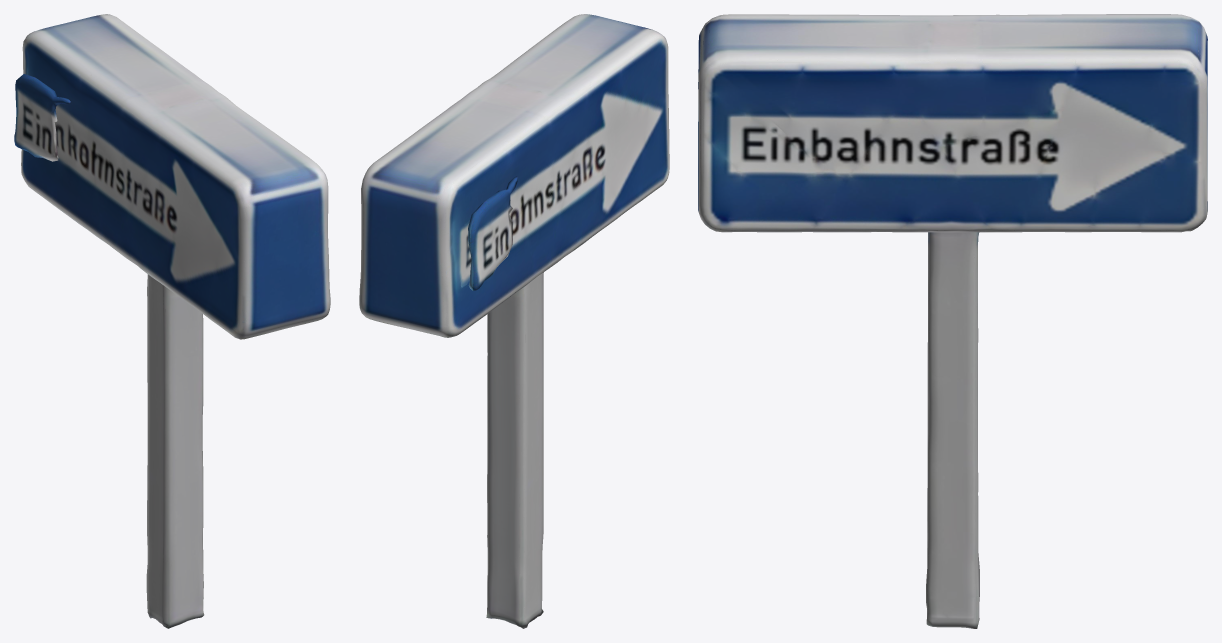
Rendered from tripo_convert_955fb6c0-0e9d-4a86-a6e5-b579ac45fa3c.fbx.
The picture shows the model from 3 angles, left to right: view 1: azimuth 30°, elevation 25°; view 2: azimuth 150°, elevation 25°; view 3: azimuth 270°, elevation 25°; orthographic projection. The views are drawn at different scales.
Visible parts, largest first — view 1: tripo_node_955fb6c0-0e9d-4a86-a6e5-b579ac45fa3c; view 2: tripo_node_955fb6c0-0e9d-4a86-a6e5-b579ac45fa3c; view 3: tripo_node_955fb6c0-0e9d-4a86-a6e5-b579ac45fa3c.
Boxes of the visible parts, bbox=[...] form: tripo_node_955fb6c0-0e9d-4a86-a6e5-b579ac45fa3c: bbox=[14, 14, 330, 628]; tripo_node_955fb6c0-0e9d-4a86-a6e5-b579ac45fa3c: bbox=[359, 14, 669, 628]; tripo_node_955fb6c0-0e9d-4a86-a6e5-b579ac45fa3c: bbox=[698, 14, 1207, 628].
Size of the model in its own units: 14.96 by 68.46 by 53.52.
Materials: 1 (1 with a texture image).
